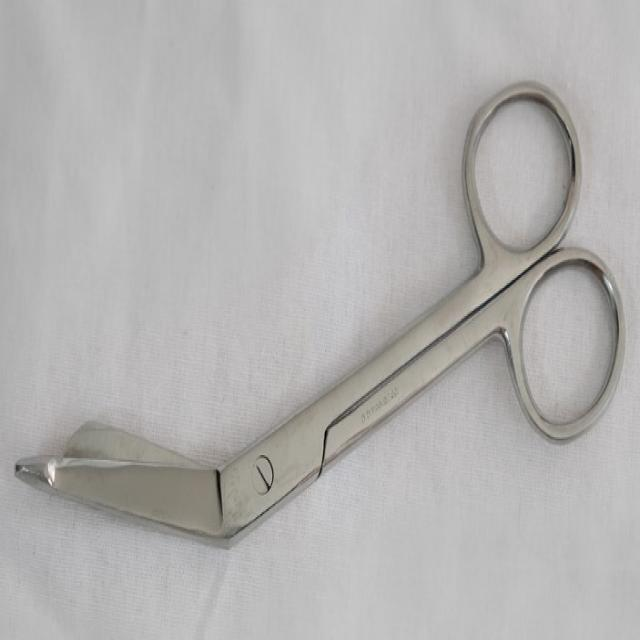Bandage Sciccors: (11, 66, 624, 558)
